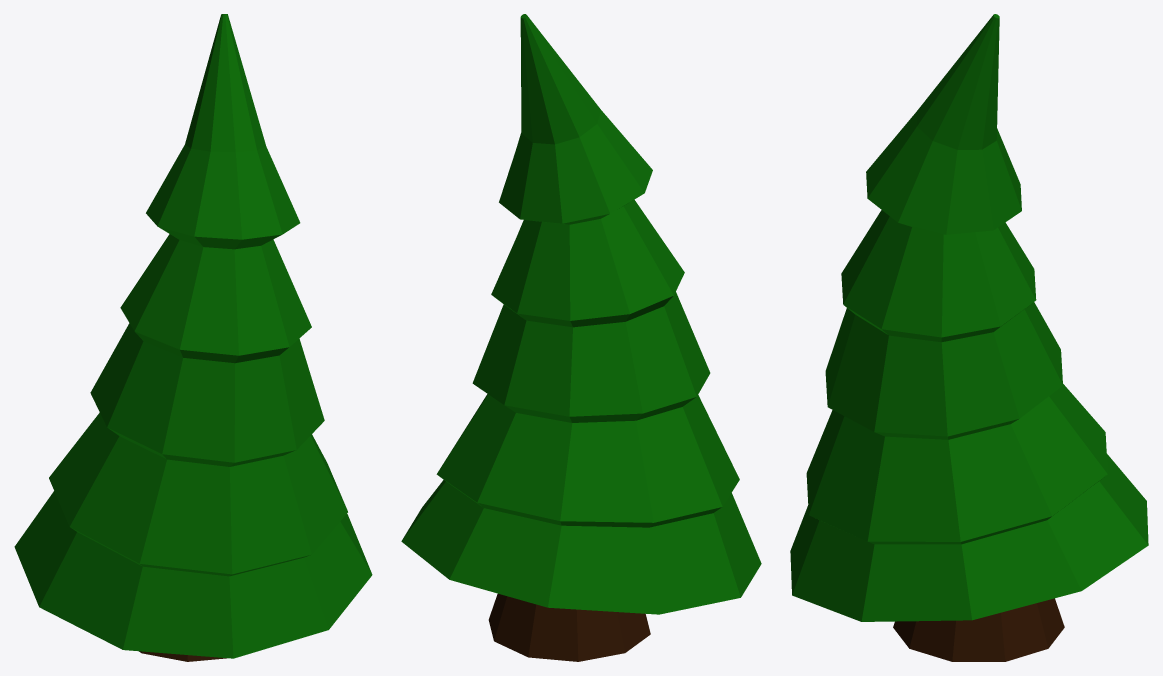
The model's file is SM_Tree01.fbx.
3 views of the same model, side by side, from view 1: azimuth 30°, elevation 25°; view 2: azimuth 150°, elevation 25°; view 3: azimuth 270°, elevation 25° (orthographic). The views are drawn at different scales.
Parts seen in each view (by area): view 1: Cylinder.001; view 2: Cylinder.001; view 3: Cylinder.001.
Part boxes in pixels (bbox=[...]): Cylinder.001: bbox=[14, 14, 372, 661]; Cylinder.001: bbox=[401, 14, 761, 661]; Cylinder.001: bbox=[790, 14, 1148, 661].
Bounding box in the file's own units: 283 × 522 × 268.
